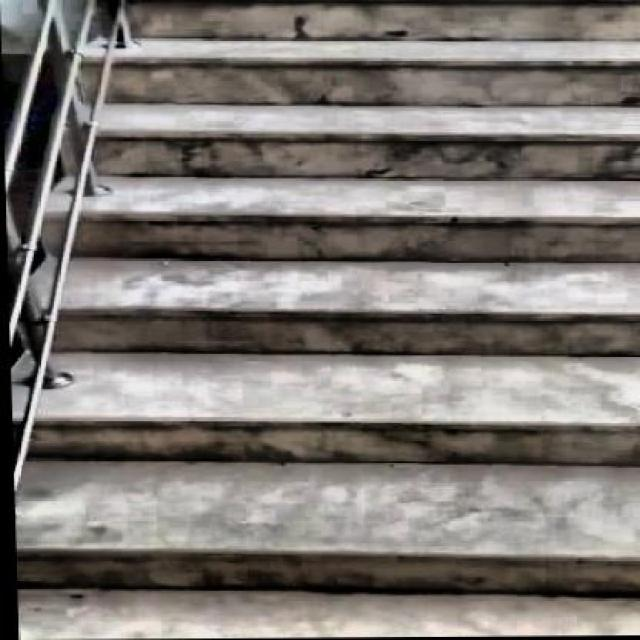stair: (49, 4, 638, 586)
